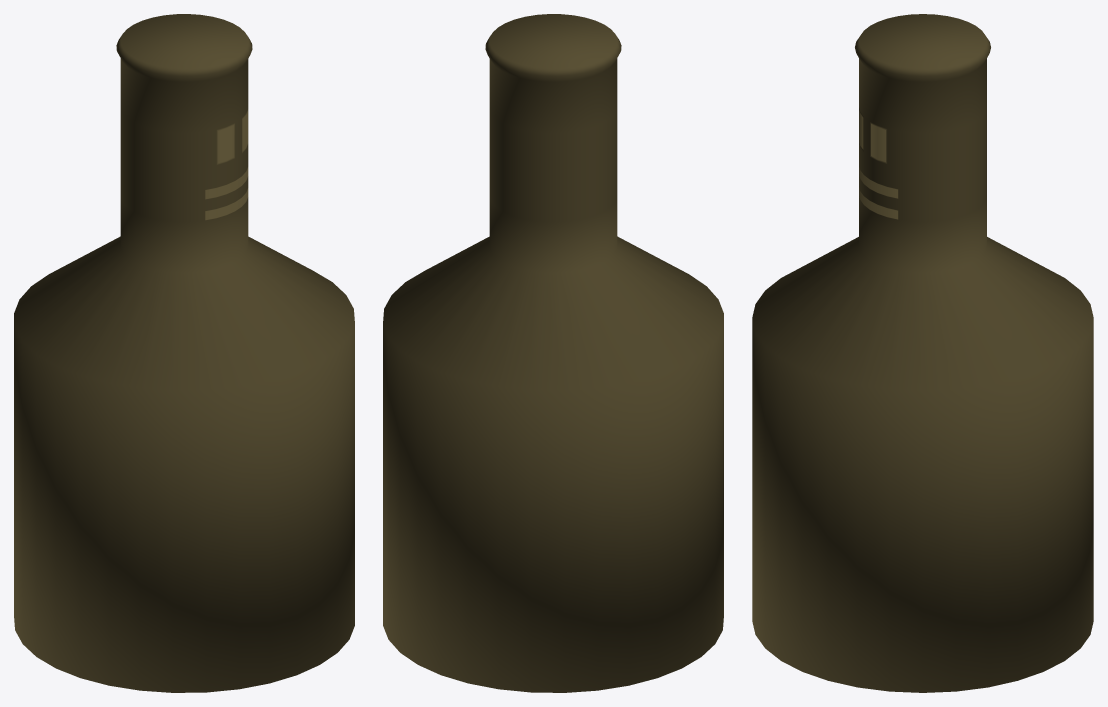
The model's file is SimpleBottle1.fbx.
3 views of the same model, side by side, from view 1: azimuth 30°, elevation 25°; view 2: azimuth 150°, elevation 25°; view 3: azimuth 270°, elevation 25° (orthographic).
Parts seen in each view (by area): view 1: Cylinder; view 2: Cylinder; view 3: Cylinder.
Part boxes in pixels (x1,y1,x2,y2): Cylinder: [14, 14, 354, 692]; Cylinder: [383, 14, 723, 692]; Cylinder: [752, 14, 1093, 692].
Bounding box in the file's own units: 100 × 187 × 100.
